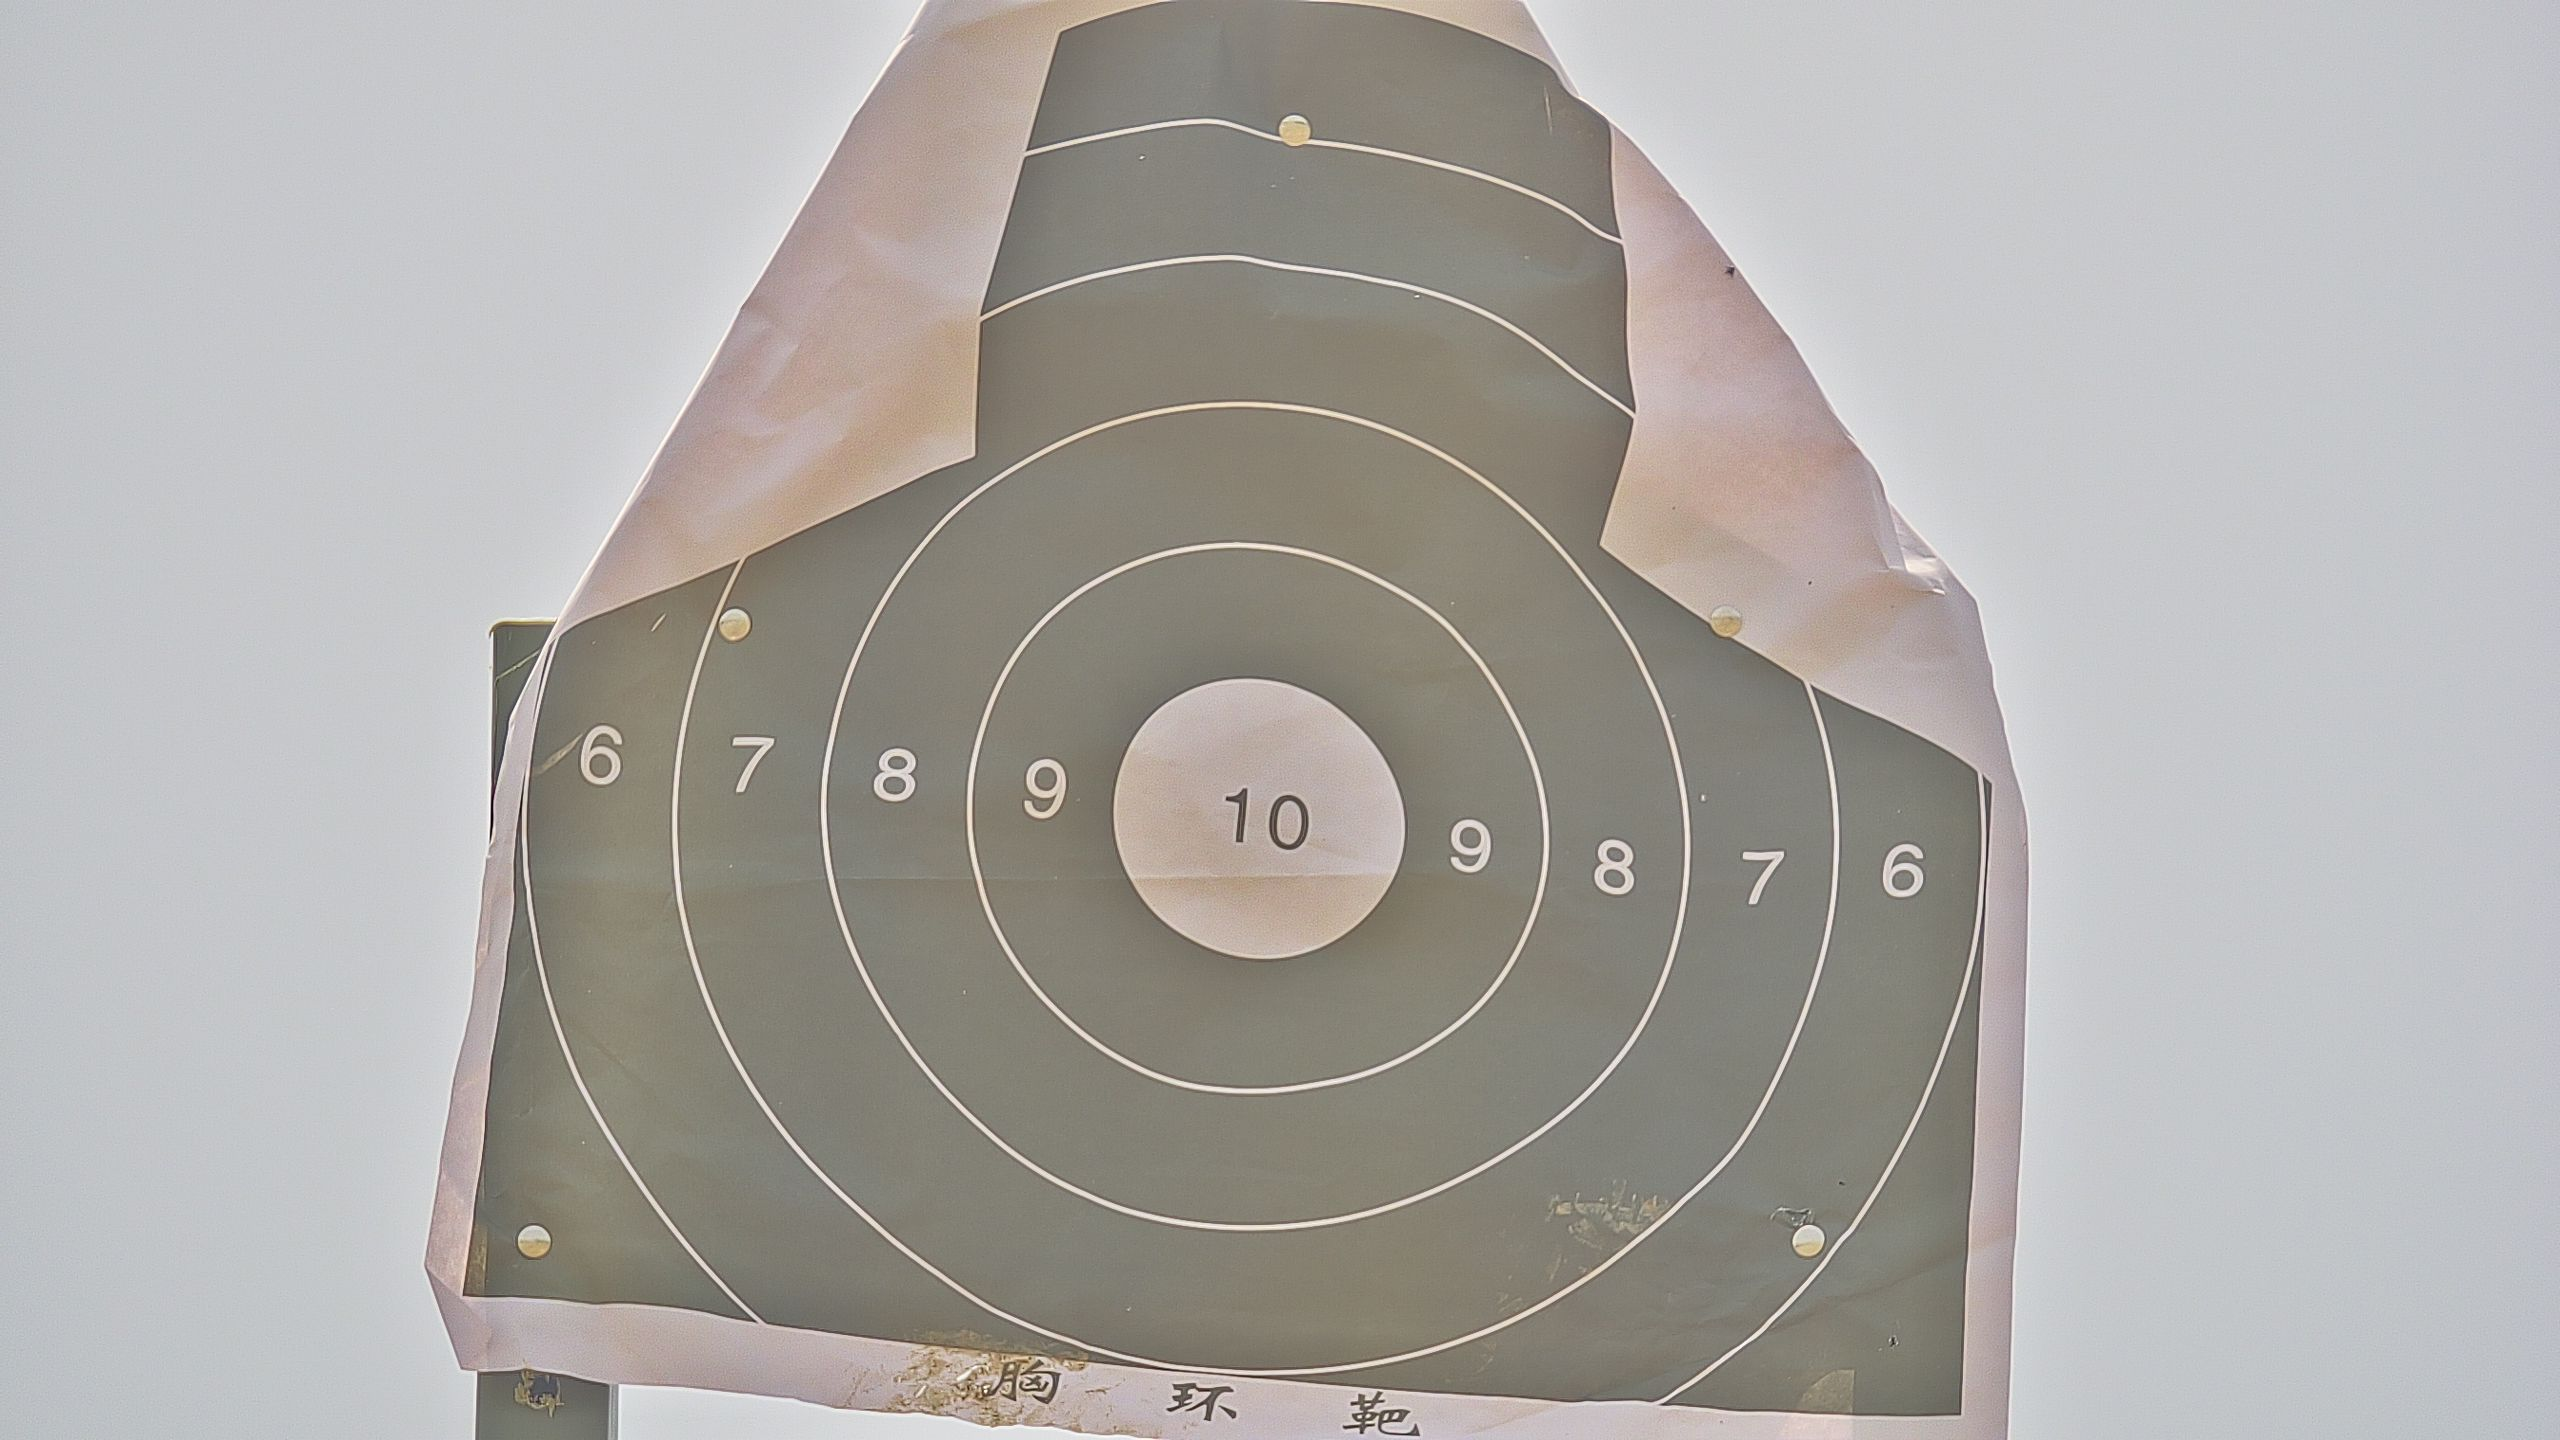kernel: (1254, 818, 1261, 819)
target: (454, 2, 1997, 1440)
ten: (1111, 675, 1405, 962)
